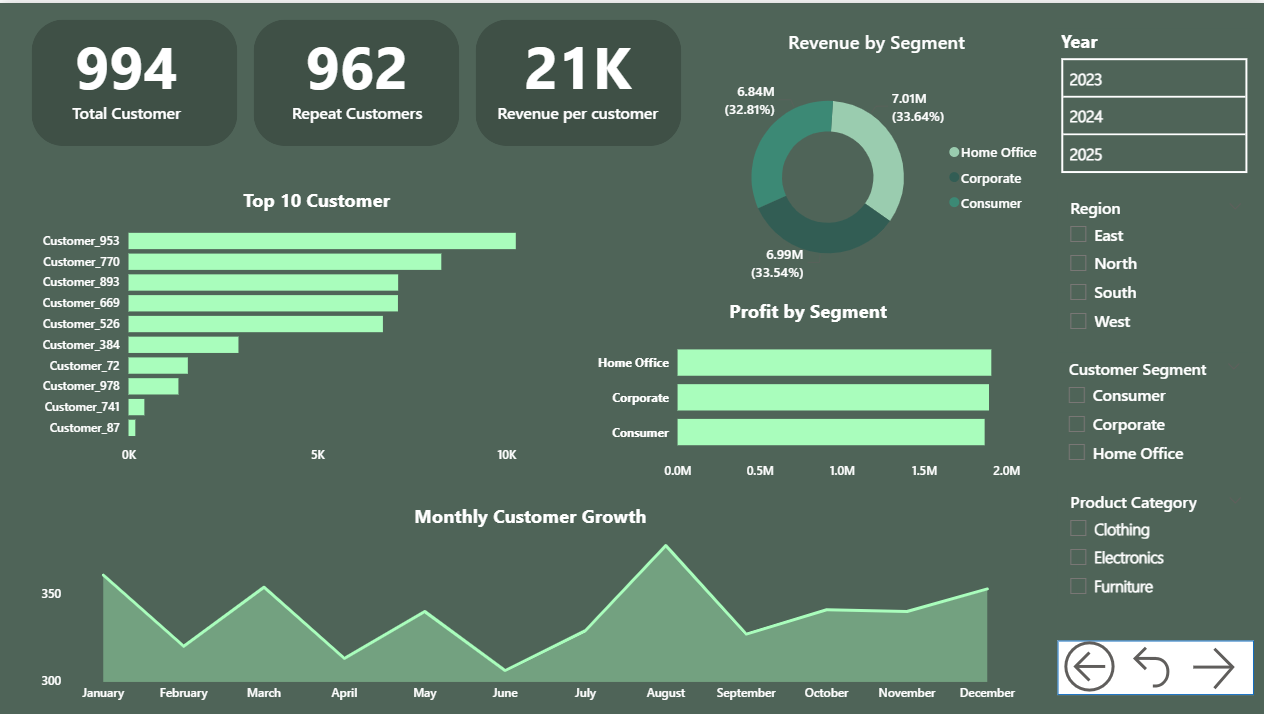

The dashboard page shown, as its layout file describes it:
{"tool":"powerbi","page":{"name":"Customer Analysis","canvas":[1280,720],"ordinal":1},"visuals":[{"type":"shape","box":[1056,0,222.7,721.3],"z":0,"group":"g2"},{"type":"shape","box":[32,16,208,128],"z":0,"group":"g3"},{"type":"shape","box":[1068.6,644.2,198.5,55.1],"z":0,"group":"g1"},{"type":"shape","box":[480,16,208,128],"z":1000,"group":"g3"},{"type":"advancedSlicerVisual","fields":{"Values":["cleaned_retail_sales.OrderMonth.Variation.Date Hierarchy.Year"]},"box":[1067,25.2,198.5,152.8],"z":1000,"group":"g2"},{"type":"actionButton","box":[1199.3,645.8,56.7,53.6],"z":1000,"group":"g1"},{"type":"shape","box":[256,16,208,128],"z":2000,"group":"g3"},{"type":"slicer","fields":{"Values":["Dim_Geography.Region"]},"box":[1068.6,190.6,198.5,149.6],"z":2000,"group":"g2"},{"type":"actionButton","box":[1136.3,644.2,64.6,53.6],"z":2000,"group":"g1"},{"type":"clusteredBarChart","title":"Top 10 Customer","fields":{"Category":["cleaned_retail_sales.Customer_Name"],"Y":["Sum(cleaned_retail_sales.Revenue)"]},"box":[32,176,576,304],"z":3000},{"type":"slicer","fields":{"Values":["Dim_Customer.Customer_Segment"]},"box":[1067,352.8,198.5,121.3],"z":3000,"group":"g2"},{"type":"actionButton","box":[1068.6,637.9,67.7,64.6],"z":3000,"group":"g1"},{"type":"donutChart","title":"Revenue by Segment","fields":{"Category":["cleaned_retail_sales.Customer_Segment"],"Y":["Sum(cleaned_retail_sales.Revenue)"]},"box":[704,16,352,288],"z":4000},{"type":"slicer","fields":{"Values":["cleaned_retail_sales.Product_Category"]},"box":[1068.6,488.3,198.5,121.3],"z":4000,"group":"g2"},{"type":"clusteredBarChart","title":"Profit by Segment","fields":{"Category":["cleaned_retail_sales.Customer_Segment"],"Y":["Sum(cleaned_retail_sales.Profit)"]},"box":[592,288,448,208],"z":5000},{"type":"group","id":"g1","title":"Group 1","box":[1068.6,637.9,198.5,64.6],"z":5000,"group":"g2"},{"type":"lineChart","title":"Monthly Customer Growth","fields":{"Y":["Dim_Customer.Monthly Customer"],"Category":["Dim_date.Month"]},"box":[32,496,1008,224],"z":6000},{"type":"group","id":"g2","title":"Field Pane","box":[1056,0,224,720],"z":7000},{"type":"group","id":"g3","title":"Kpi card","box":[32,16,656,128],"z":8000},{"type":"card","fields":{"Values":["Dim_Customer.Total Customer"]},"box":[32,0,192,144],"z":8500},{"type":"card","fields":{"Values":["Dim_Customer.Repeat Customers"]},"box":[272,0,176,144],"z":9000},{"type":"card","fields":{"Values":["Dim_Customer.Revenue per customer"]},"box":[464,0,240,144],"z":9500}]}

Visuals, with their boxes in screenshot pixels (x1, y1, x2, y2), scaled from the page's 1280x720 canvas onto the 1264x714 screenshot:
shape: (x1=1043, y1=0, x2=1263, y2=713)
shape: (x1=32, y1=16, x2=237, y2=143)
shape: (x1=1055, y1=639, x2=1251, y2=693)
shape: (x1=474, y1=16, x2=679, y2=143)
advancedSlicerVisual - cleaned_retail_sales.OrderMonth.Variation.Date Hierarchy.Year: (x1=1054, y1=25, x2=1250, y2=177)
actionButton: (x1=1184, y1=640, x2=1240, y2=694)
shape: (x1=253, y1=16, x2=458, y2=143)
slicer - Dim_Geography.Region: (x1=1055, y1=189, x2=1251, y2=337)
actionButton: (x1=1122, y1=639, x2=1186, y2=692)
"Top 10 Customer" clusteredBarChart: (x1=32, y1=175, x2=600, y2=476)
slicer - Dim_Customer.Customer_Segment: (x1=1054, y1=350, x2=1250, y2=470)
actionButton: (x1=1055, y1=633, x2=1122, y2=697)
"Revenue by Segment" donutChart: (x1=695, y1=16, x2=1043, y2=301)
slicer - cleaned_retail_sales.Product_Category: (x1=1055, y1=484, x2=1251, y2=605)
"Profit by Segment" clusteredBarChart: (x1=585, y1=286, x2=1027, y2=492)
"Group 1" group: (x1=1055, y1=633, x2=1251, y2=697)
"Monthly Customer Growth" lineChart: (x1=32, y1=492, x2=1027, y2=713)
"Field Pane" group: (x1=1043, y1=0, x2=1263, y2=713)
"Kpi card" group: (x1=32, y1=16, x2=679, y2=143)
card - Dim_Customer.Total Customer: (x1=32, y1=0, x2=221, y2=143)
card - Dim_Customer.Repeat Customers: (x1=269, y1=0, x2=442, y2=143)
card - Dim_Customer.Revenue per customer: (x1=458, y1=0, x2=695, y2=143)
